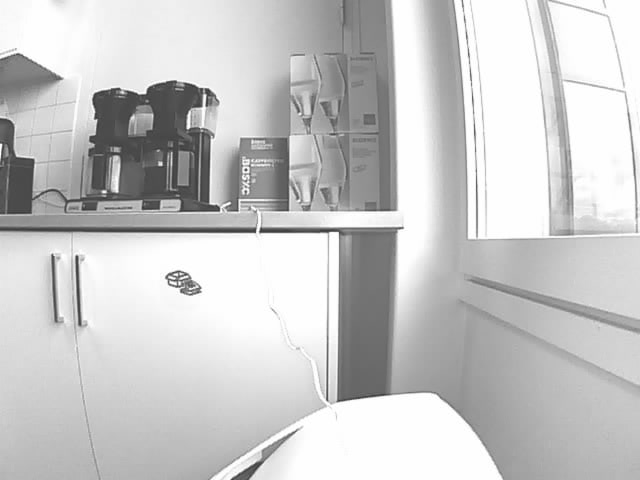empty coffee: (86, 145, 136, 195)
not empty coffee: (144, 142, 198, 198)
